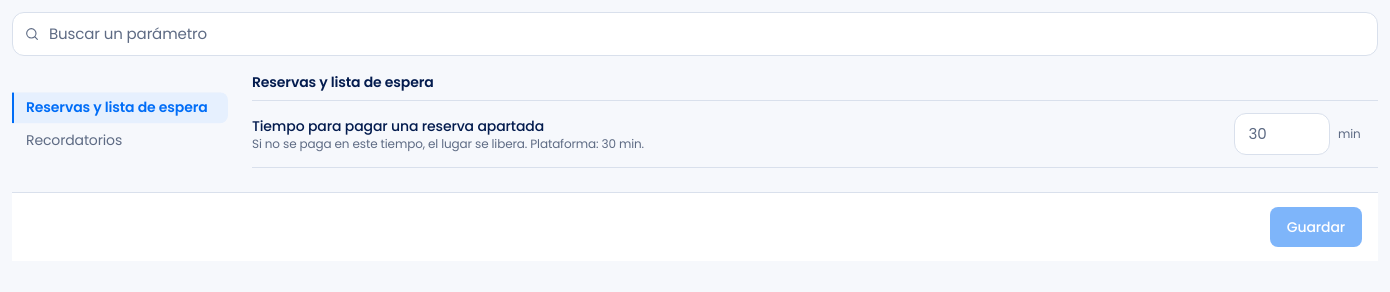
it: revisión antes de guardar (solo se monta una categoría) › un número con decimales no se envía
Step 1. Type "7.5" into the number field with class "minutos_para_pagar" → (1282,134), box [1234,113,1330,155]
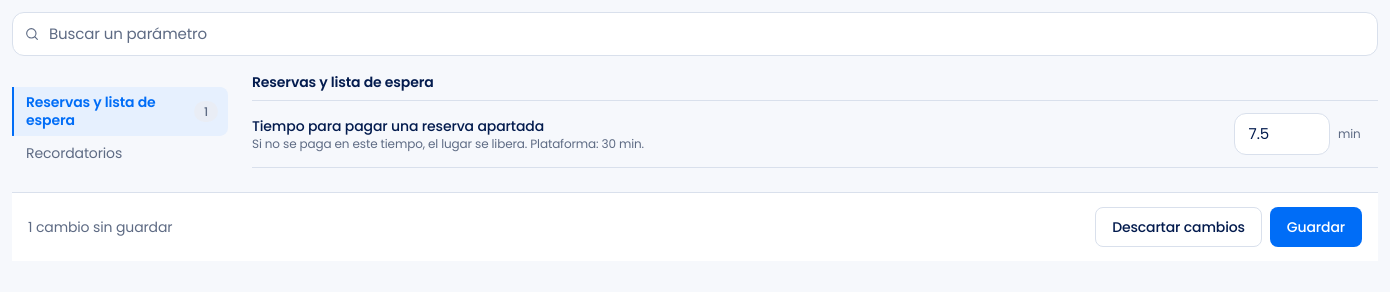
Step 2. Submit the form
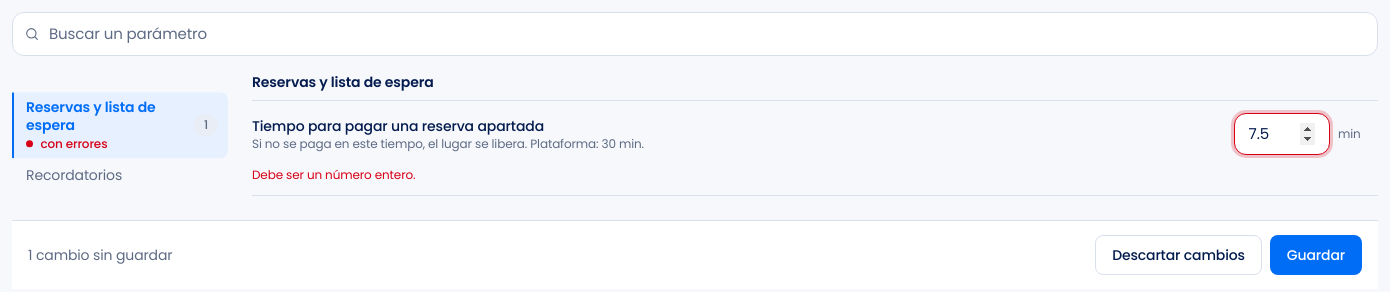
Result: the message "Debe ser un número entero." is shown at [252,166,415,183]
